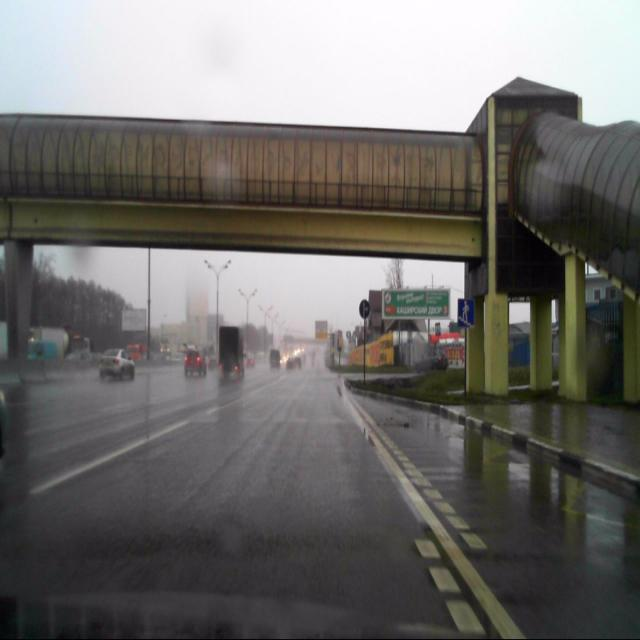road sign: (458, 299, 474, 327)
